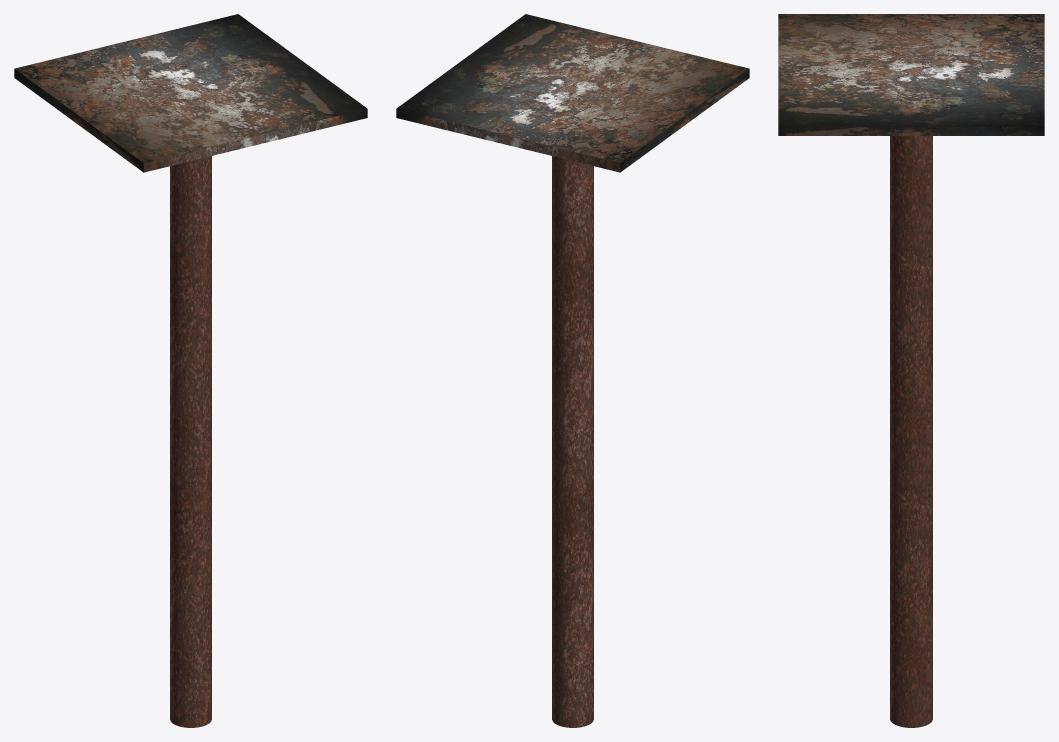
Rendered from platform_pillar.FBX.
The picture shows the model from 3 angles, left to right: view 1: azimuth 30°, elevation 25°; view 2: azimuth 150°, elevation 25°; view 3: azimuth 270°, elevation 25°; orthographic projection. The views are drawn at different scales.
Visible parts, largest first — view 1: Box001, Cylinder001; view 2: Box001, Cylinder001; view 3: Box001, Cylinder001.
Boxes of the visible parts, x1,y1,x2,y2 form: Box001: (14, 14, 367, 172); Cylinder001: (170, 156, 211, 727); Box001: (396, 14, 749, 172); Cylinder001: (552, 156, 593, 727); Box001: (778, 14, 1044, 135); Cylinder001: (890, 136, 932, 727).
Size of the model in its own units: 50 by 135 by 50.
2 materials, 2 textured.
